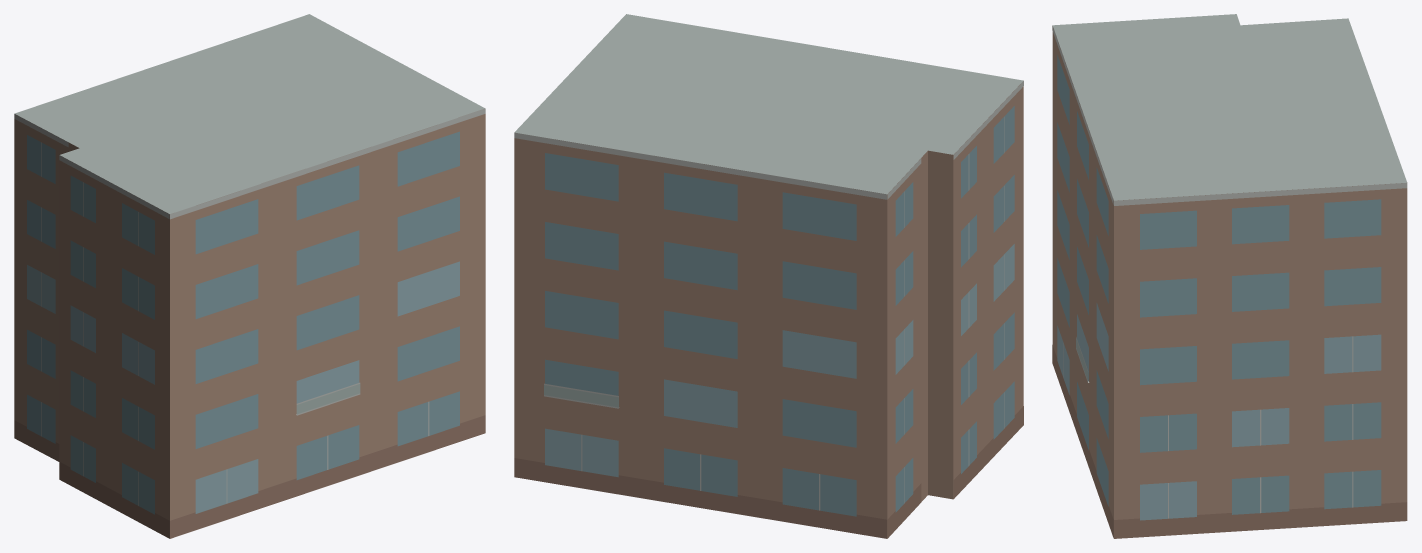
File: survey-upis-32576061.glb
3 renders of one model, left to right at view 1: azimuth 30°, elevation 25°; view 2: azimuth 150°, elevation 25°; view 3: azimuth 270°, elevation 25°, orthographic. The views are drawn at different scales.
Visible parts, largest first — view 1: survey-upis-32576061.tmp; view 2: survey-upis-32576061.tmp; view 3: survey-upis-32576061.tmp.
Part boxes in pixels (bbox=[...]): survey-upis-32576061.tmp: bbox=[14, 14, 485, 538]; survey-upis-32576061.tmp: bbox=[514, 14, 1023, 538]; survey-upis-32576061.tmp: bbox=[1052, 14, 1407, 538].
Size of the model in its own units: 18.06 by 15.25 by 14.51.
